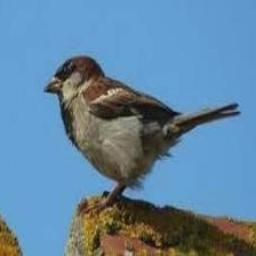Sparrow: (45, 55, 241, 215)
